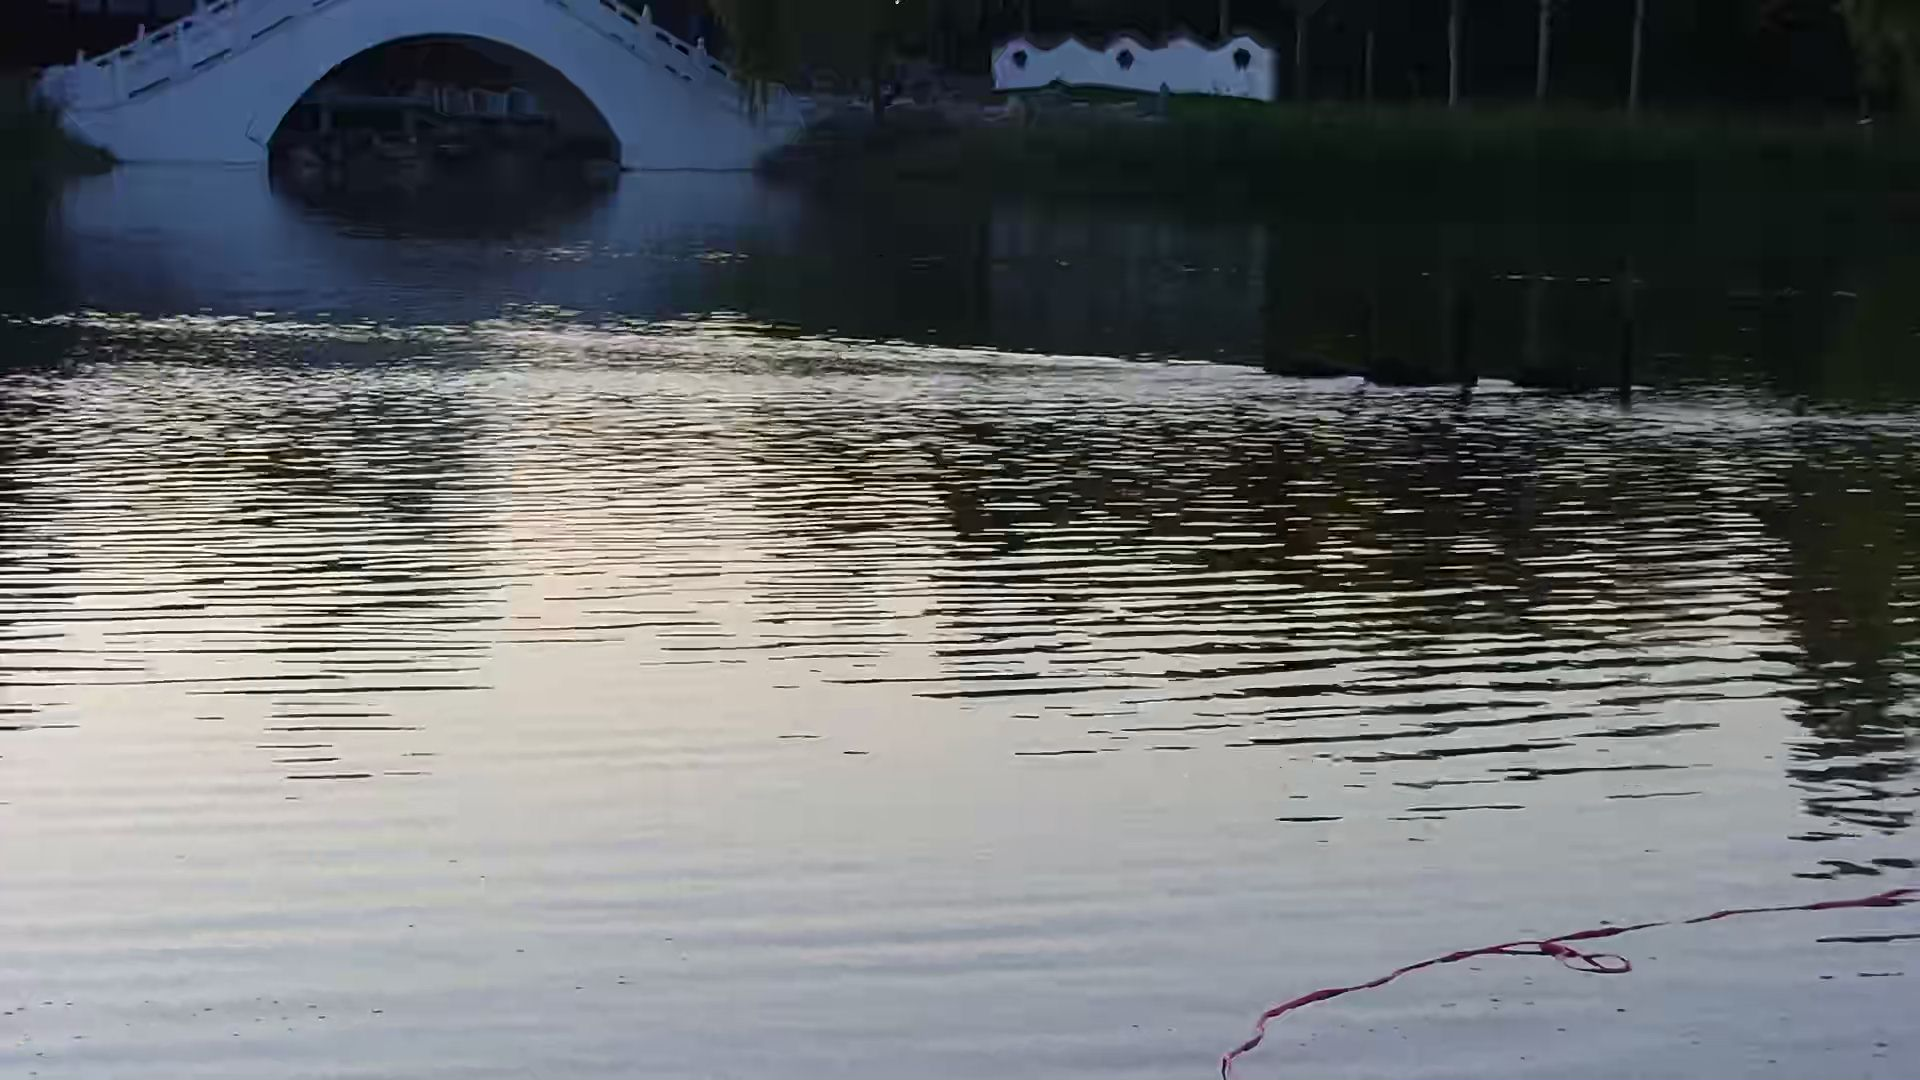bridge: (32, 3, 790, 175)
